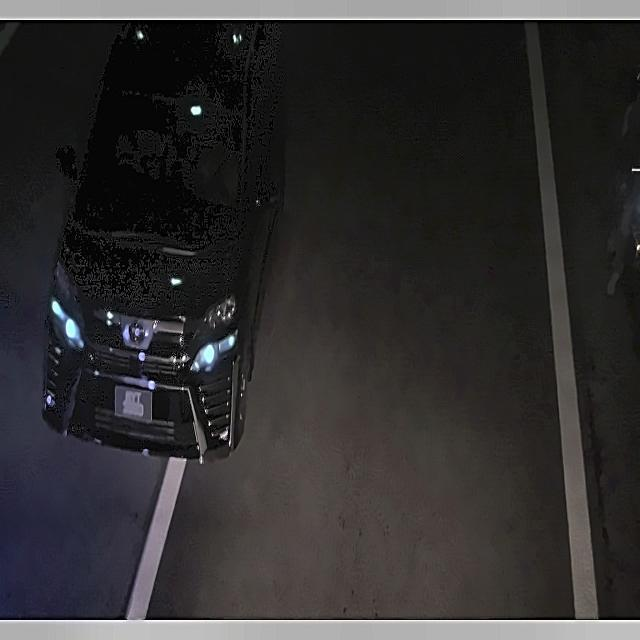car: (112, 382, 152, 426)
